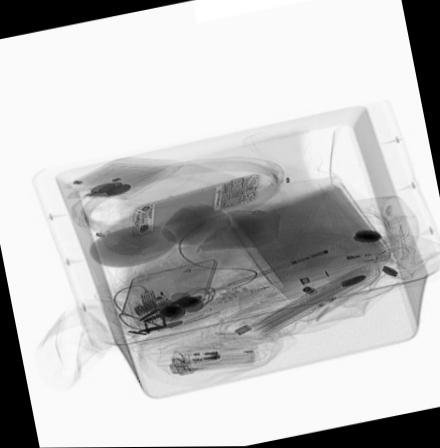Lighter: (301, 249, 395, 271)
